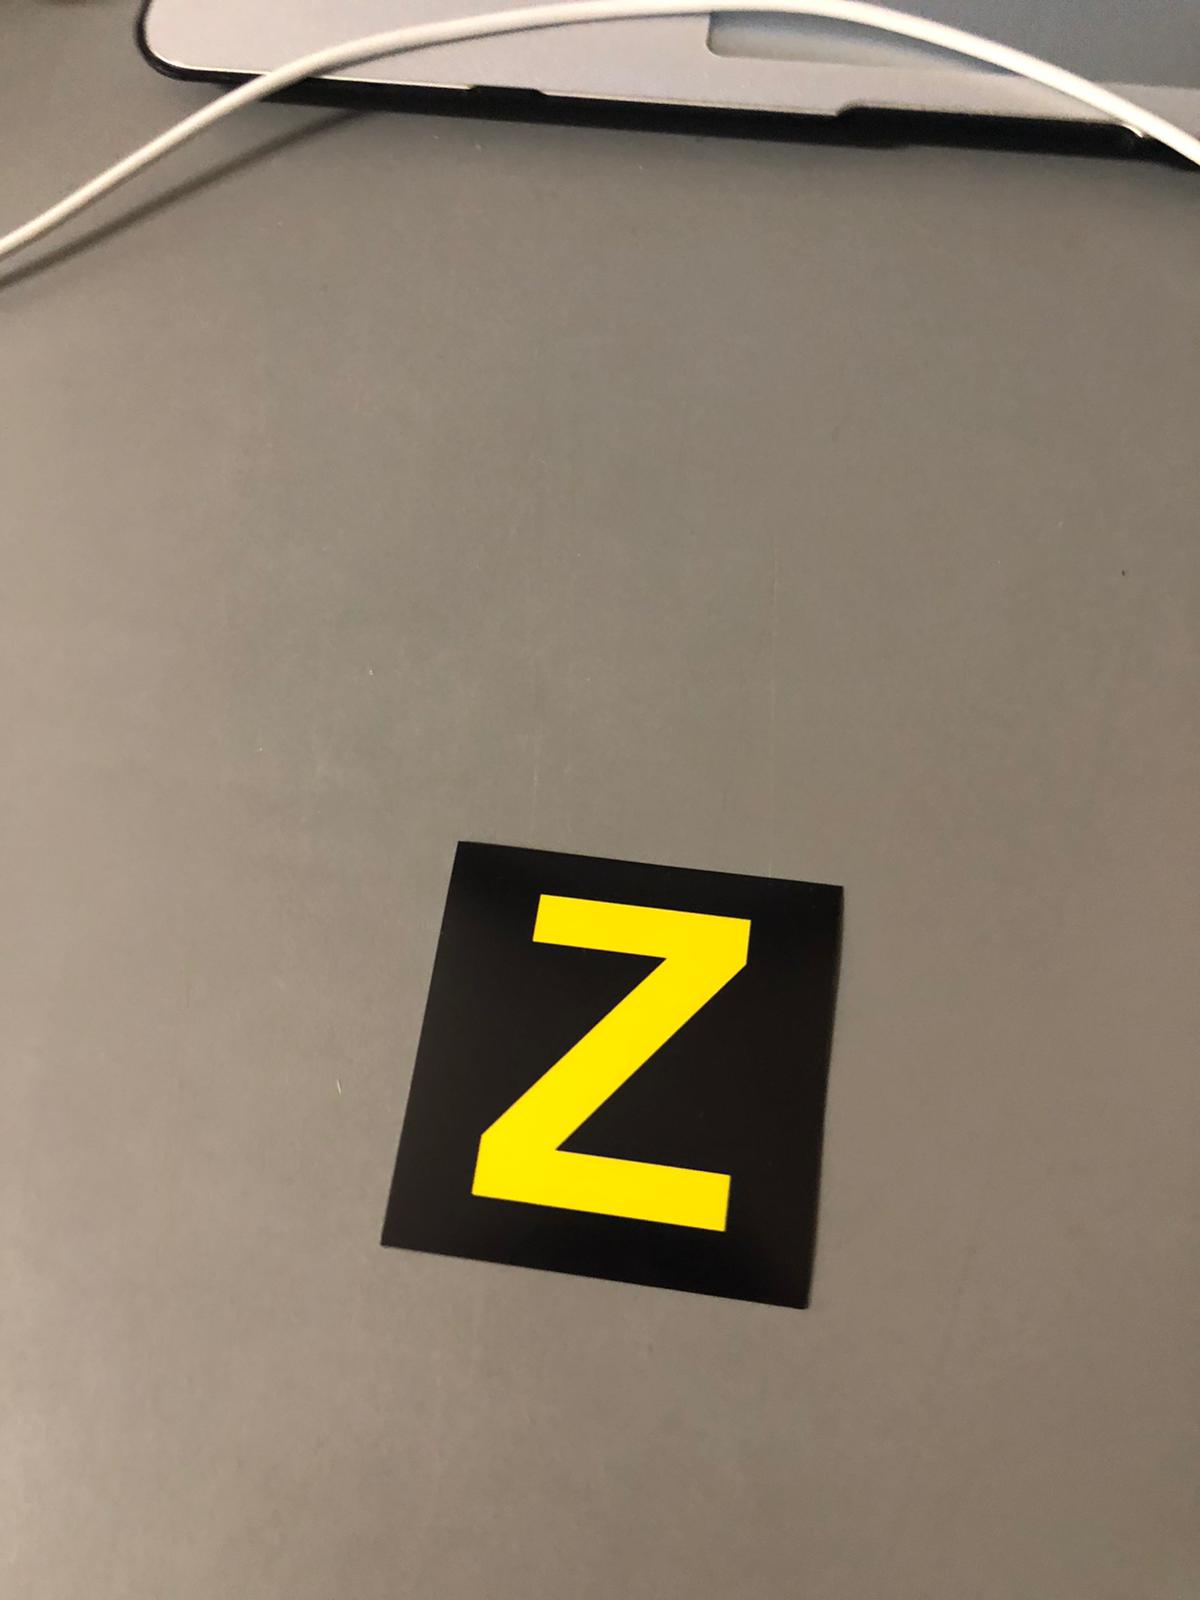Z: (455, 860, 771, 1264)
